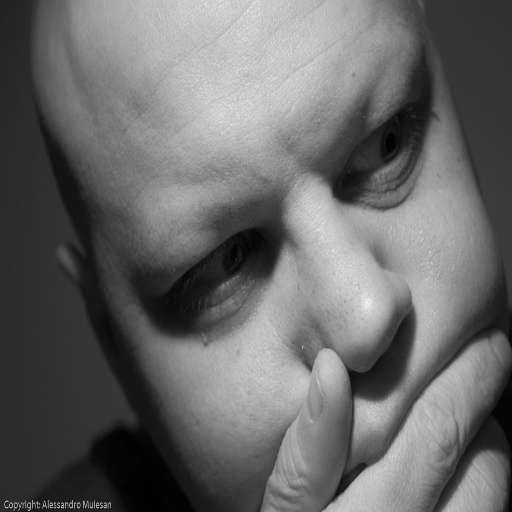hand: (272, 285, 505, 509)
